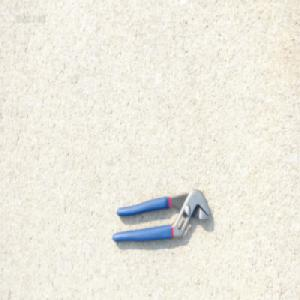Pliers: (111, 187, 215, 243)
